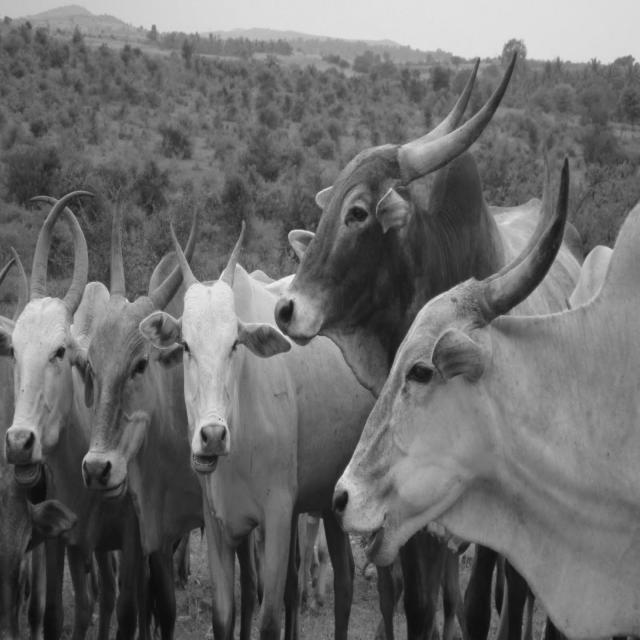Cow: (370, 271, 538, 542), (289, 101, 399, 364), (172, 255, 262, 509), (90, 273, 160, 547), (0, 281, 78, 524)
